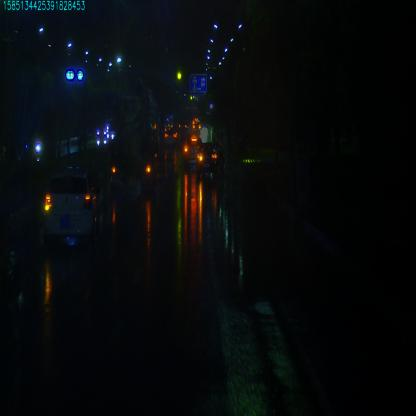traffic-light: (176, 71, 183, 83)
